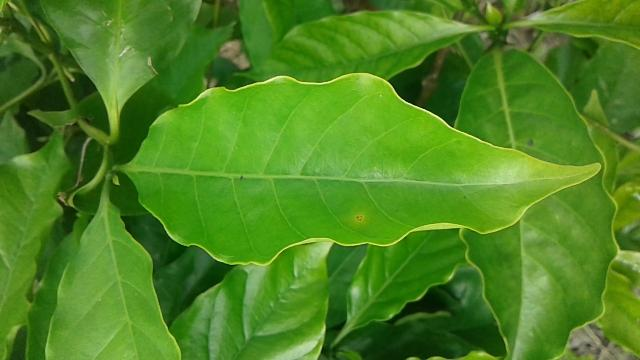rust_level_1: (122, 72, 599, 268)
